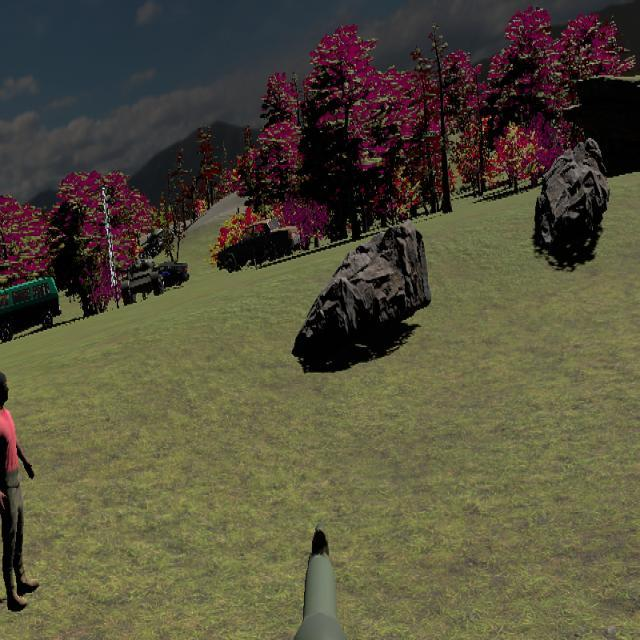Human: (0, 371, 35, 616)
Tank: (121, 255, 163, 303)
car: (217, 218, 303, 271), (0, 277, 61, 340), (157, 261, 190, 289)
